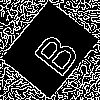B: (24, 24, 82, 80)
